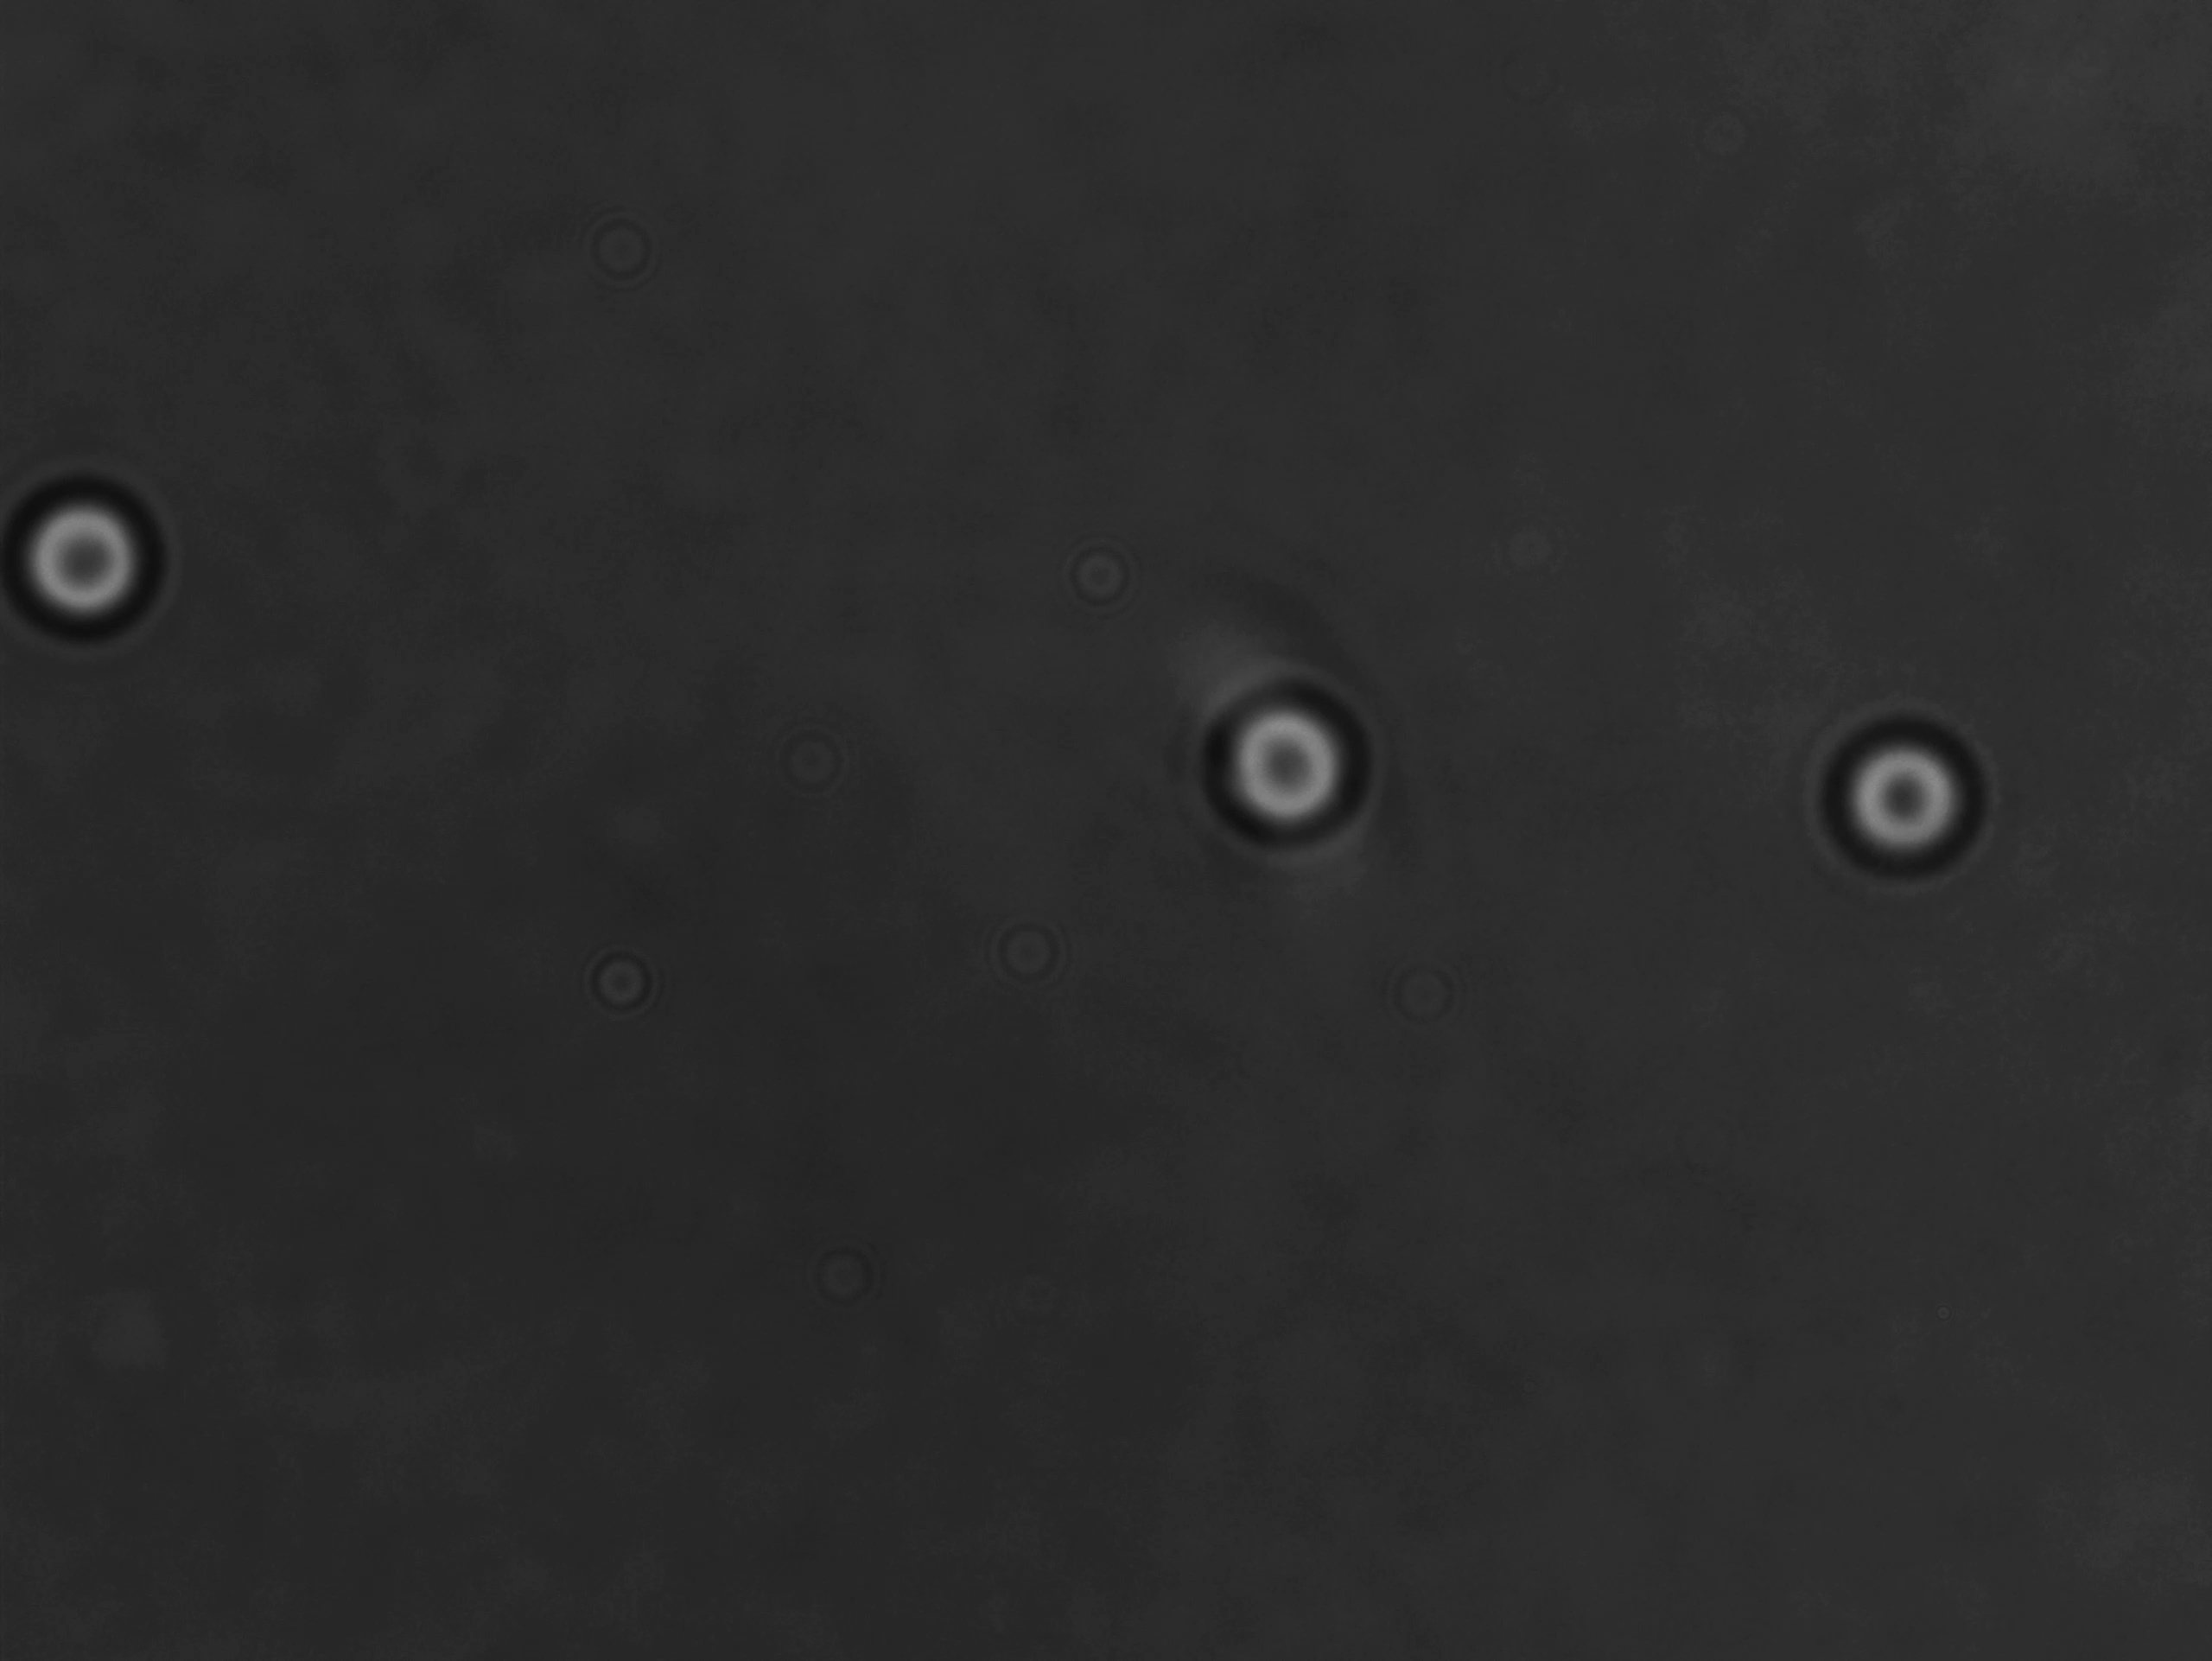depth:40: (1171, 663, 1375, 857)
depth:60: (1818, 694, 2011, 893)
